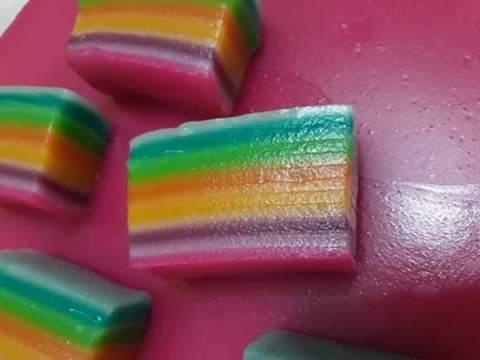kue_lapis_pelangi: (127, 105, 368, 282)
